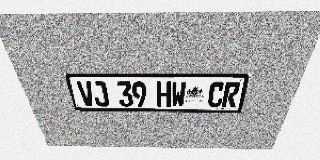3: (117, 81, 133, 107)
9: (132, 81, 147, 107)
C: (207, 82, 226, 107)
H: (157, 81, 171, 107)
J: (91, 81, 110, 107)
R: (221, 82, 241, 108)
V: (76, 81, 96, 106)
W: (171, 82, 186, 107)
